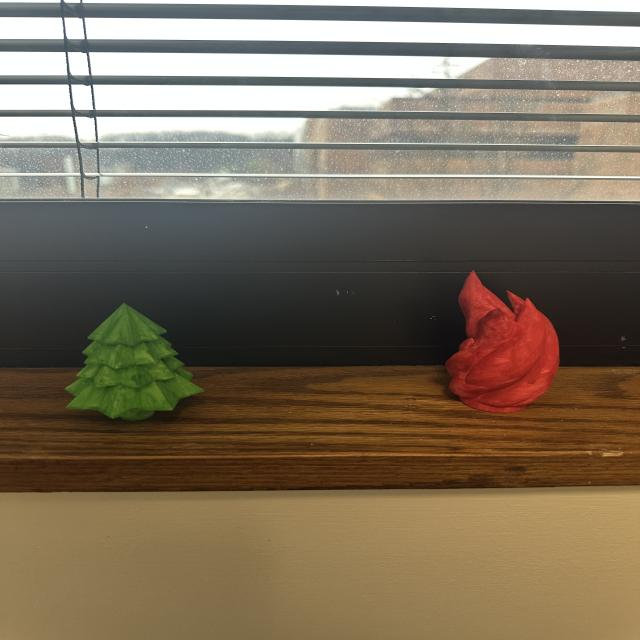fire: (441, 266, 563, 414)
tree: (62, 300, 205, 422)
